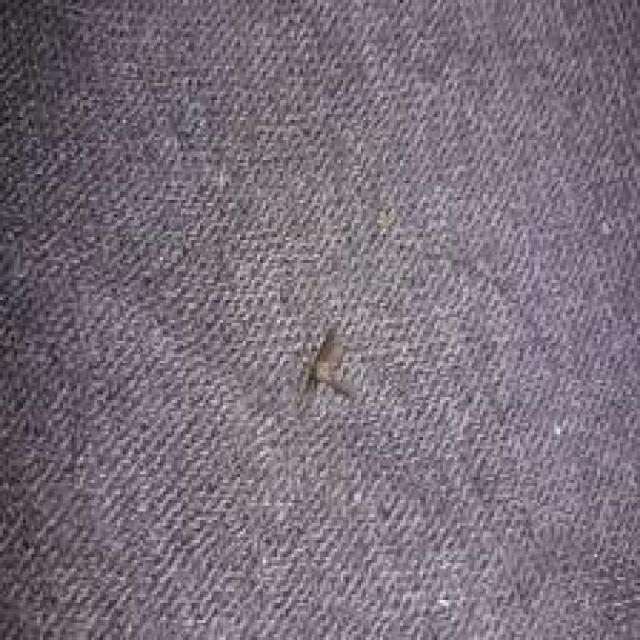Culex: (298, 326, 353, 400)
